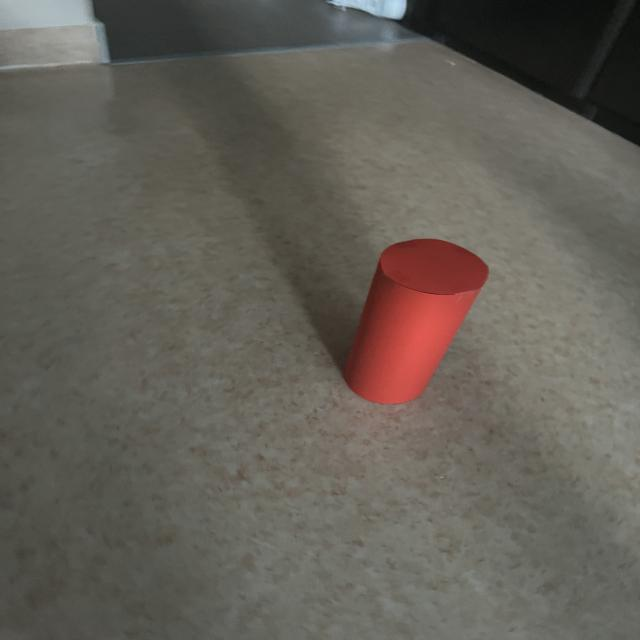przeszkoda: (344, 239, 488, 403)
